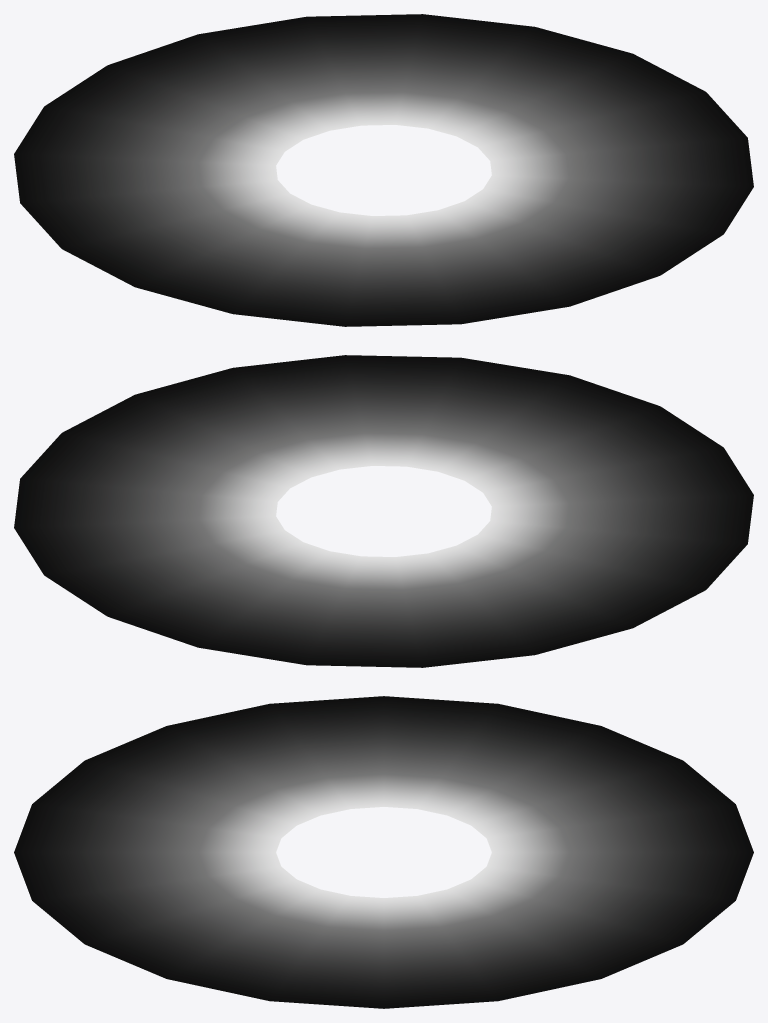
The model's file is vignette.fbx.
The picture shows the model from 3 angles, top to bottom: view 1: azimuth 30°, elevation 25°; view 2: azimuth 150°, elevation 25°; view 3: azimuth 270°, elevation 25°; orthographic projection.
Parts seen in each view (by area): view 1: vignette_mesh; view 2: vignette_mesh; view 3: vignette_mesh.
Part boxes in pixels (bbox=[...]): vignette_mesh: bbox=[14, 14, 753, 326]; vignette_mesh: bbox=[14, 355, 753, 667]; vignette_mesh: bbox=[14, 696, 753, 1008].
Bounding box in the file's own units: 28.67 × 0 × 28.67.
1 material, 1 textured.
